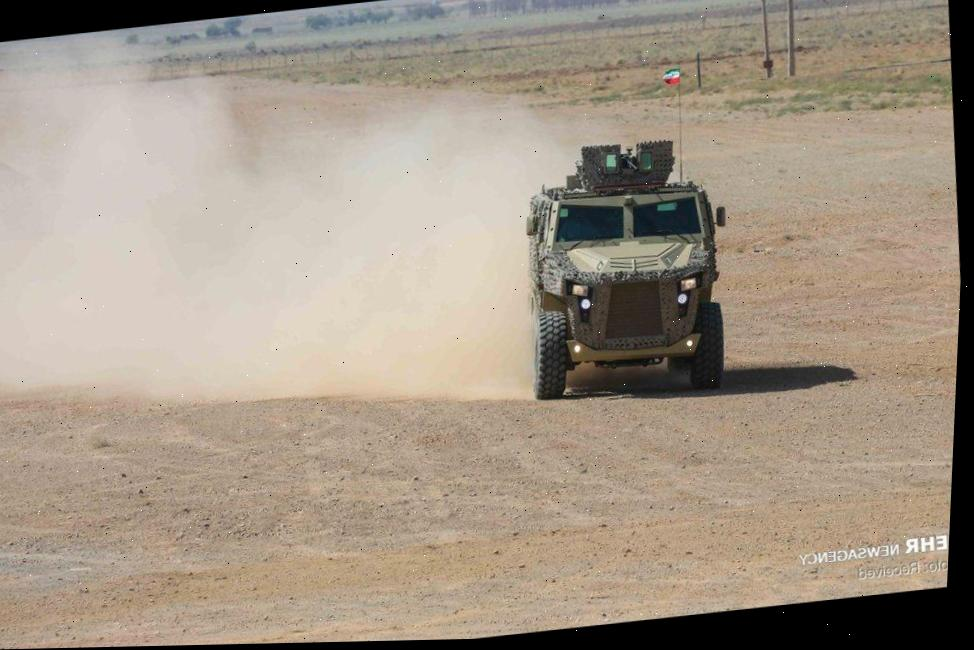truck: (508, 129, 745, 411)
